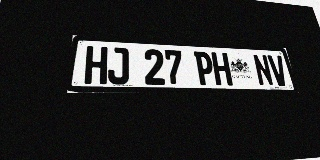2: (144, 49, 165, 85)
7: (163, 50, 185, 85)
H: (84, 46, 108, 84), (211, 52, 233, 86)
J: (107, 47, 129, 84)
N: (252, 54, 274, 86)
P: (194, 51, 215, 85)
V: (267, 55, 289, 86)
